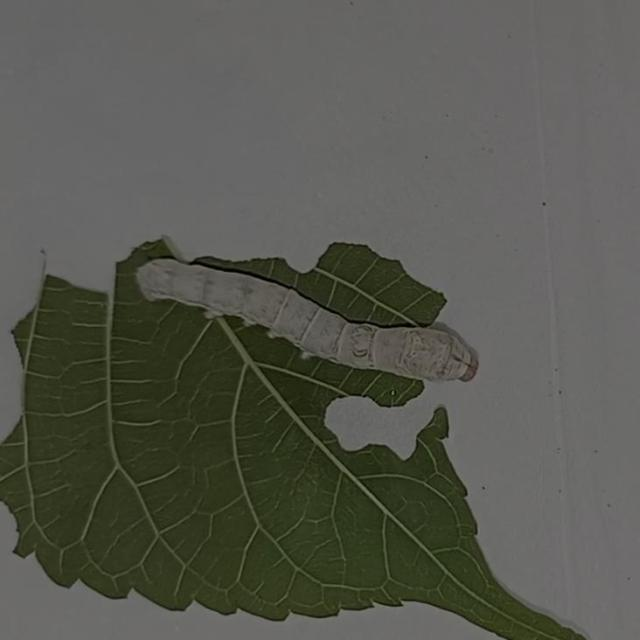Healthy: (130, 241, 490, 410)
